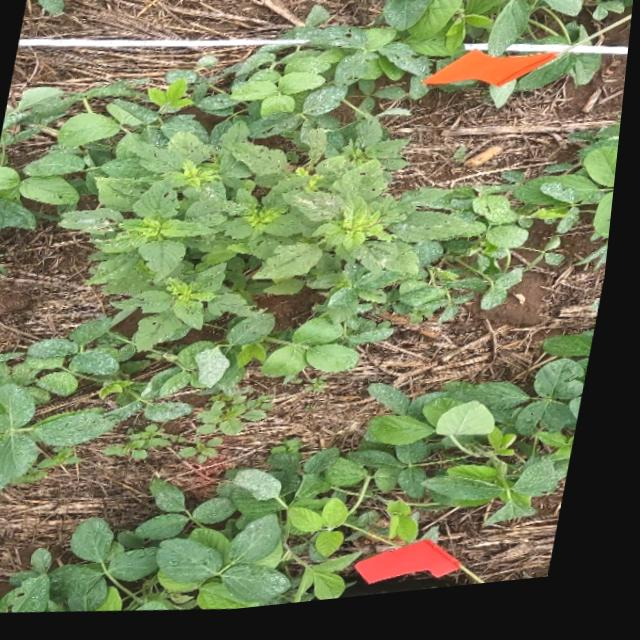caruru_weed: (43, 55, 531, 382), (114, 399, 282, 467)
soy_plant: (0, 345, 602, 615), (405, 134, 625, 329), (0, 318, 199, 494), (375, 0, 636, 71), (0, 87, 90, 237), (287, 33, 435, 92), (150, 345, 238, 402), (519, 66, 598, 101), (100, 222, 145, 281), (38, 0, 65, 15)
